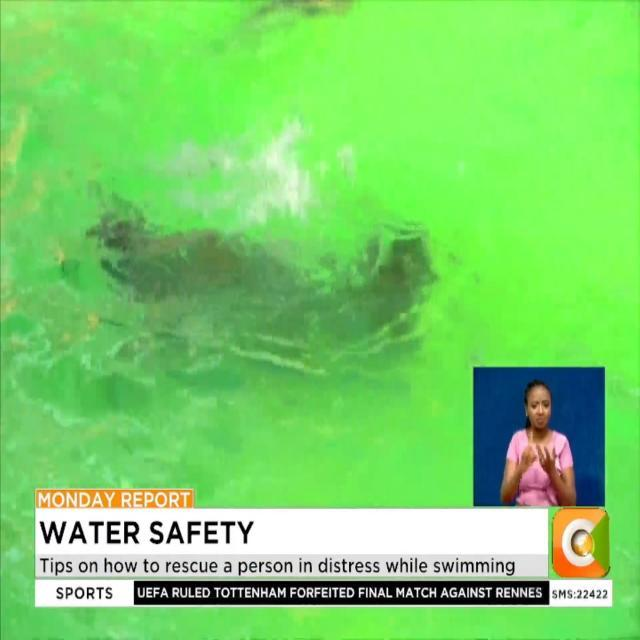drowning: (66, 153, 431, 395)
